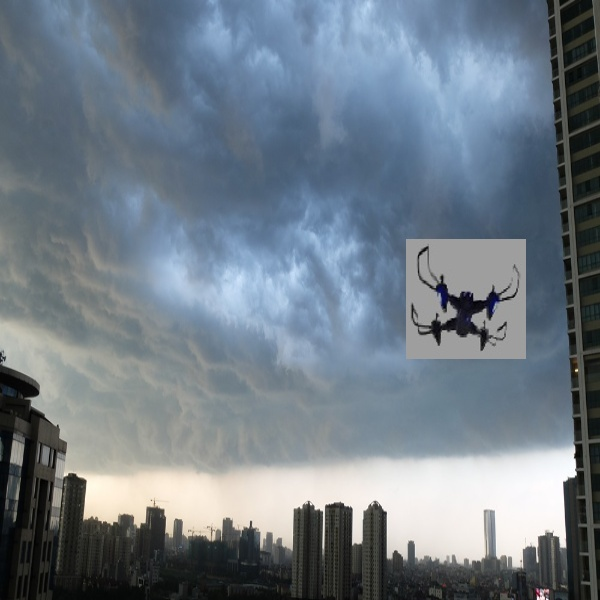drone: (404, 240, 528, 360)
